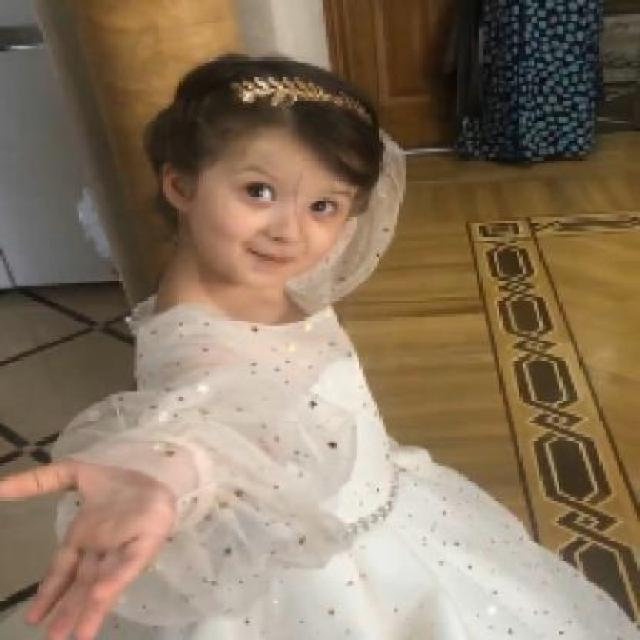child: (3, 48, 640, 638)
